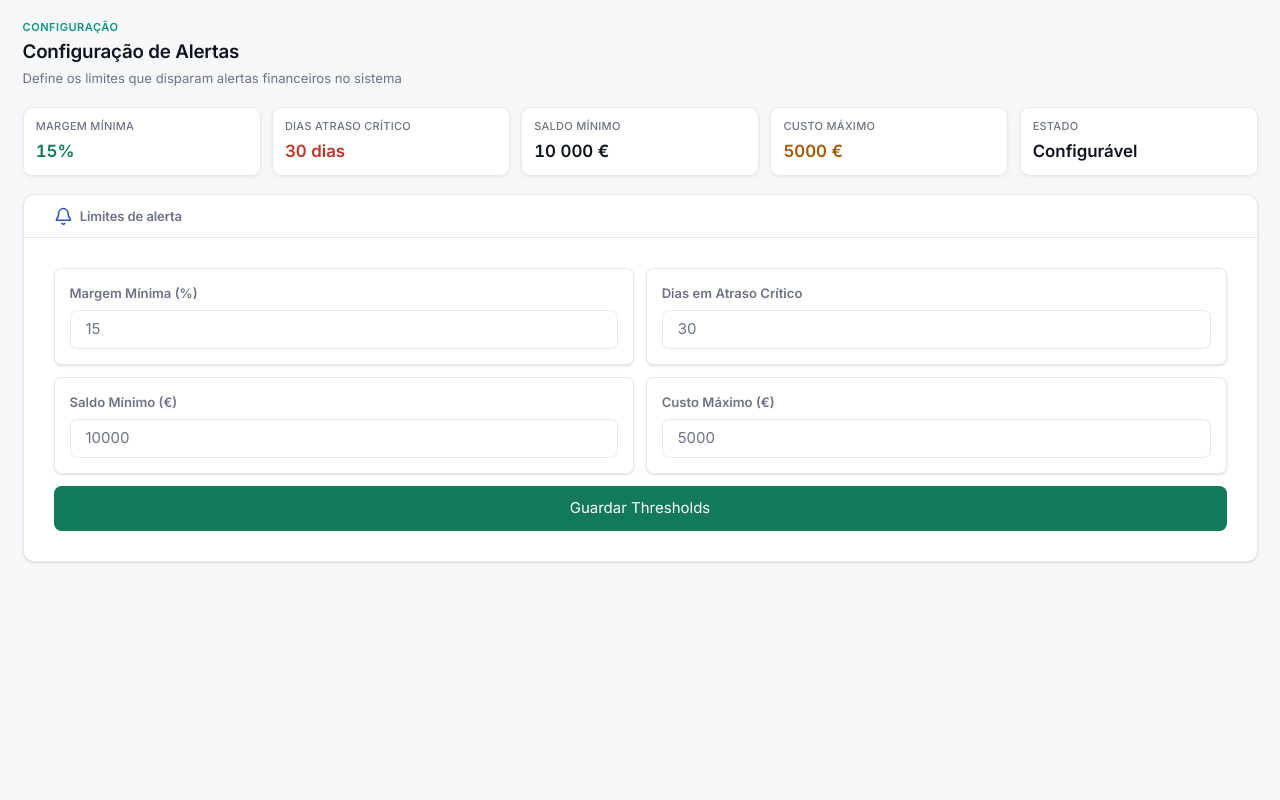
AlertThresholdsPage › updates the KPI when a threshold input changes
Replace the text in the number field below "Margem Mínima (%)" with "20" at (344, 330), box x1=70 y1=310 x2=618 y2=349
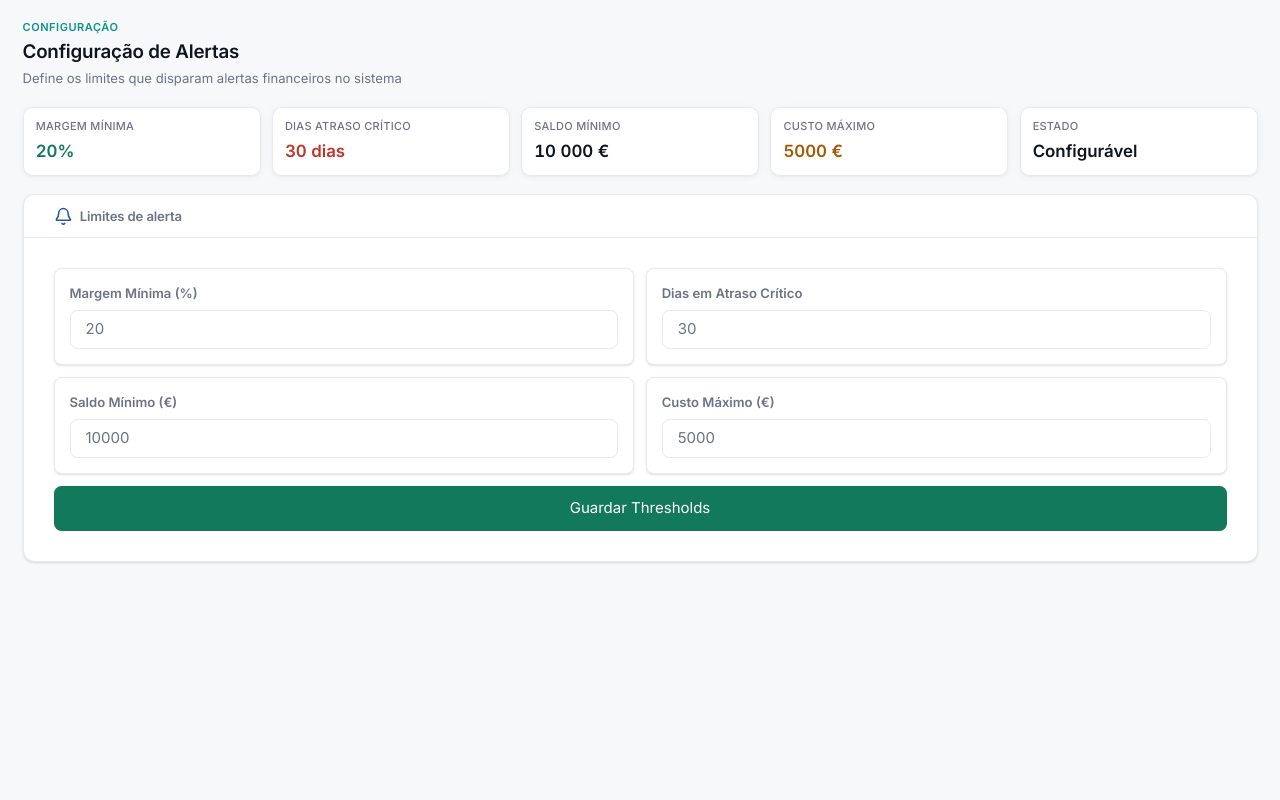
Result: the text "20%" is shown at x1=36 y1=141 x2=74 y2=161
